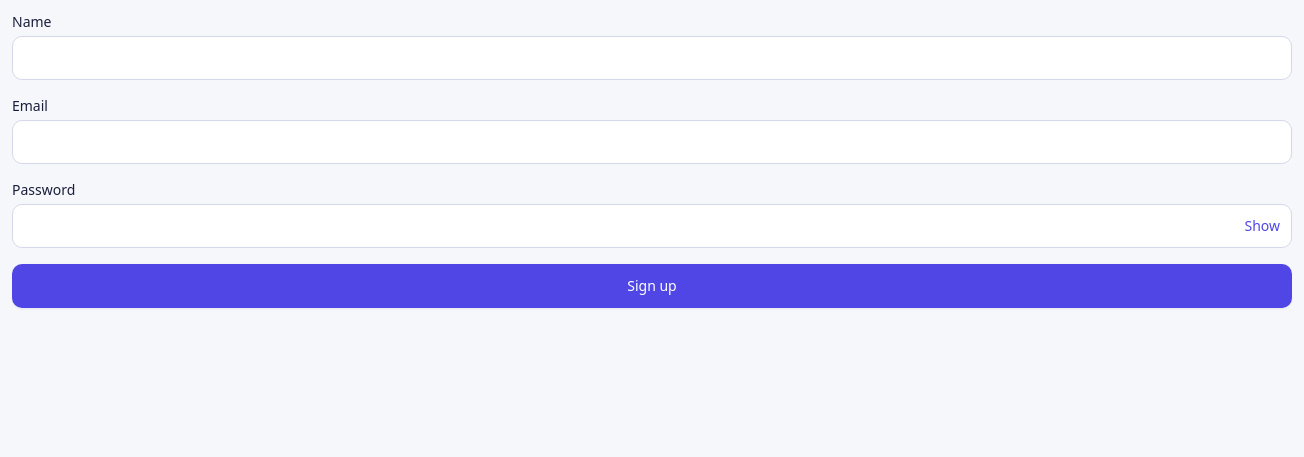
Test: SignupForm › shows every error and does not submit an empty form
Click the button "Sign up": (652,286) [12,264,1292,308]
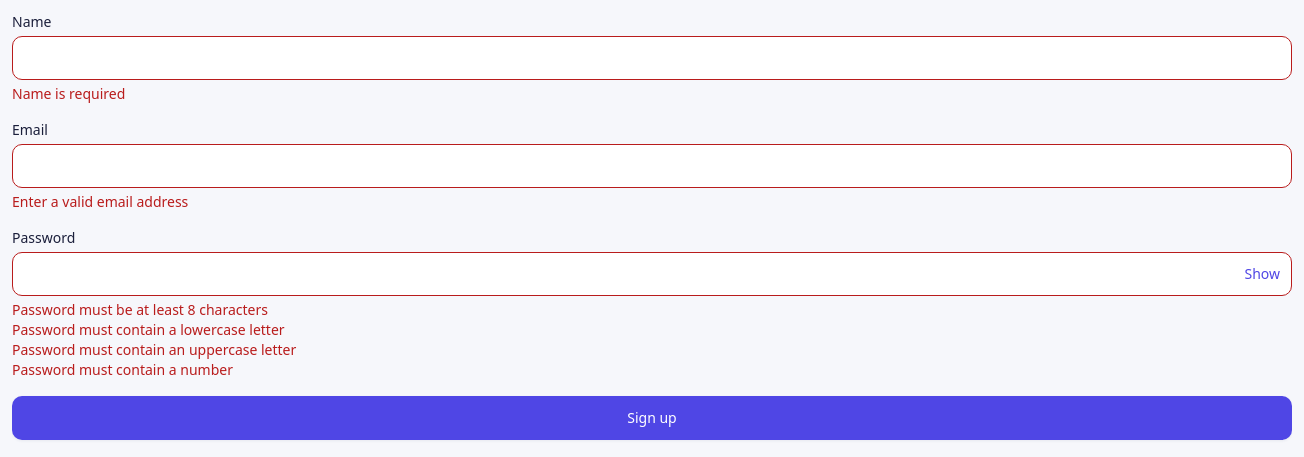
Expected: the text "Name is required" is shown, [12,84,125,103]
Expected: the text "Enter a valid email address" is shown, [12,192,188,211]
Expected: the text "Password must be at least 8 characters" is shown, [12,300,268,319]
